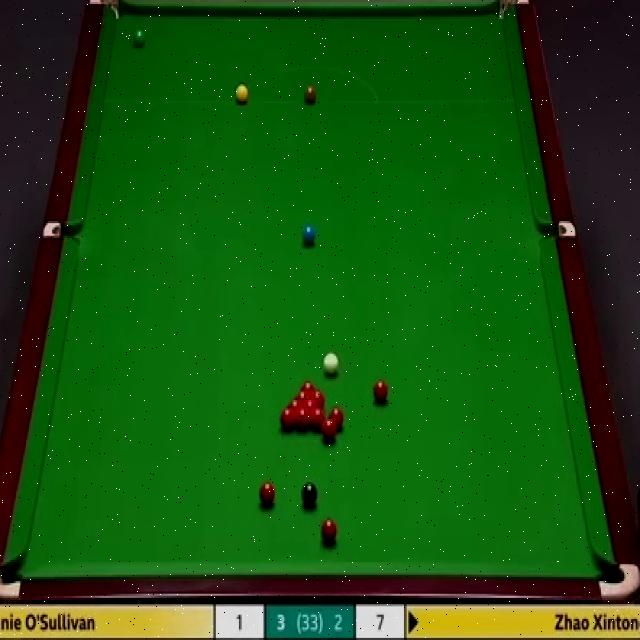black-ball: (302, 482, 318, 509)
blue-ball: (302, 225, 316, 246)
brown-ball: (303, 85, 317, 105)
green-ball: (133, 30, 145, 48)
red-ball: (258, 481, 276, 507), (322, 517, 338, 545), (373, 380, 388, 406), (278, 407, 294, 430), (310, 408, 326, 431), (329, 407, 343, 431), (322, 420, 336, 442), (295, 407, 309, 429), (311, 389, 325, 406), (298, 378, 317, 389), (294, 390, 310, 400), (302, 399, 318, 408), (287, 399, 302, 408)
white-ball: (323, 349, 340, 377)
yellow-ball: (235, 83, 248, 103)
